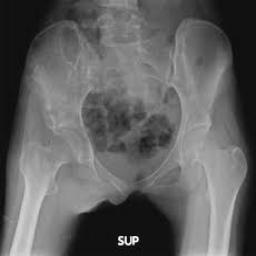cancer: (59, 151, 134, 215), (58, 22, 89, 70)
